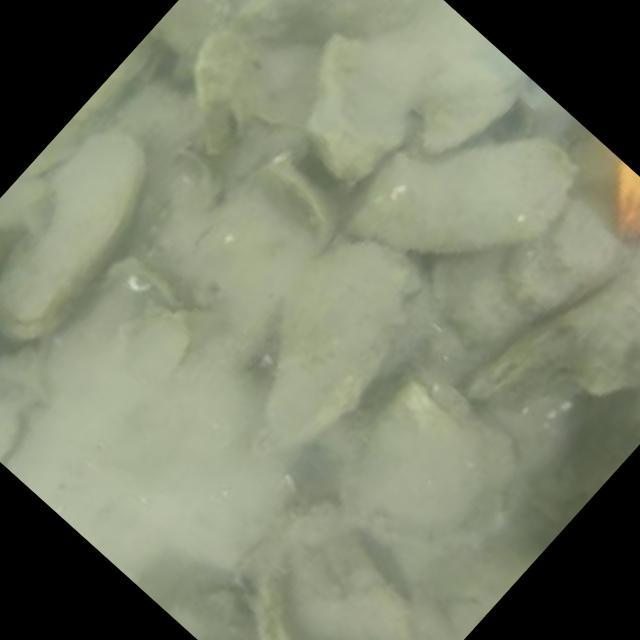Oyster- Indeterminate: (253, 243, 407, 450), (0, 132, 140, 348), (344, 137, 574, 253), (438, 201, 615, 345), (340, 377, 479, 540), (412, 0, 528, 152), (309, 37, 424, 187)
